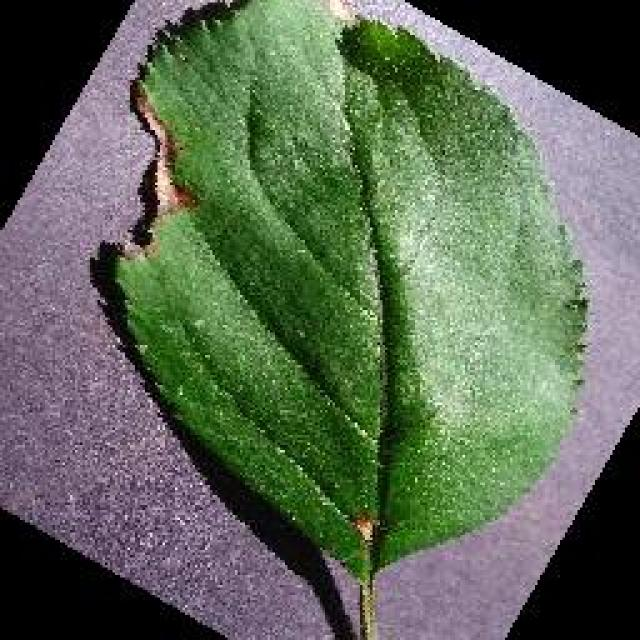Black_rot: (98, 0, 592, 590)
